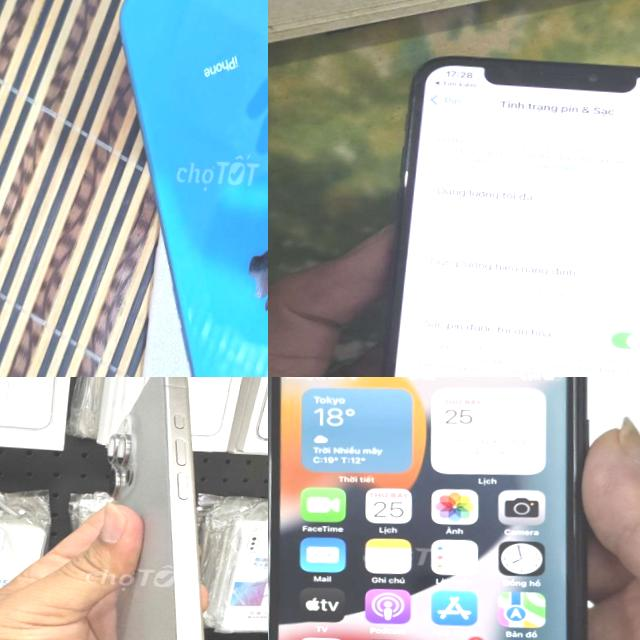scratch: (268, 408, 289, 640)
